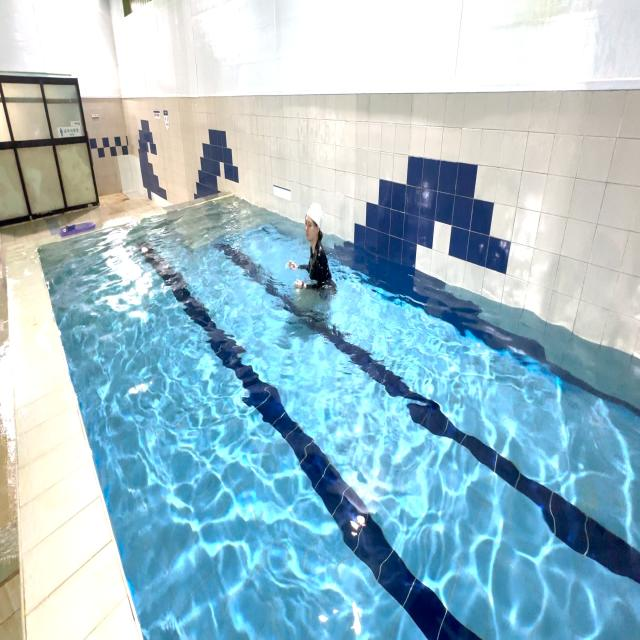Swimming: (286, 200, 340, 304)
